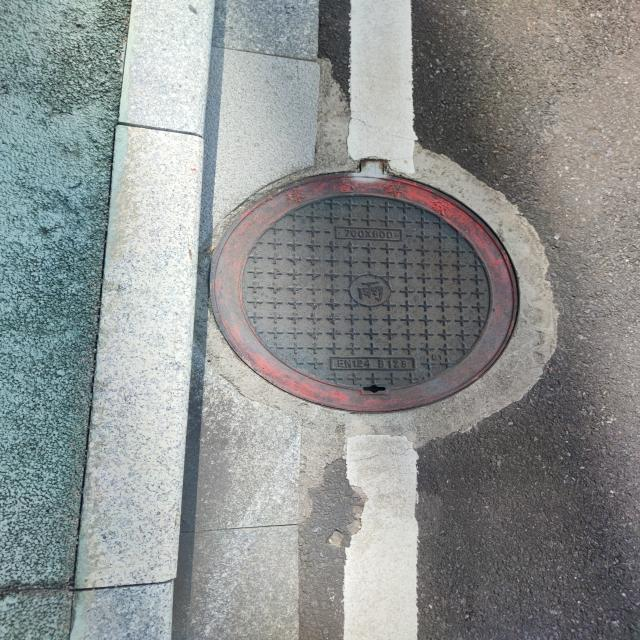Good: (203, 156, 524, 415)
